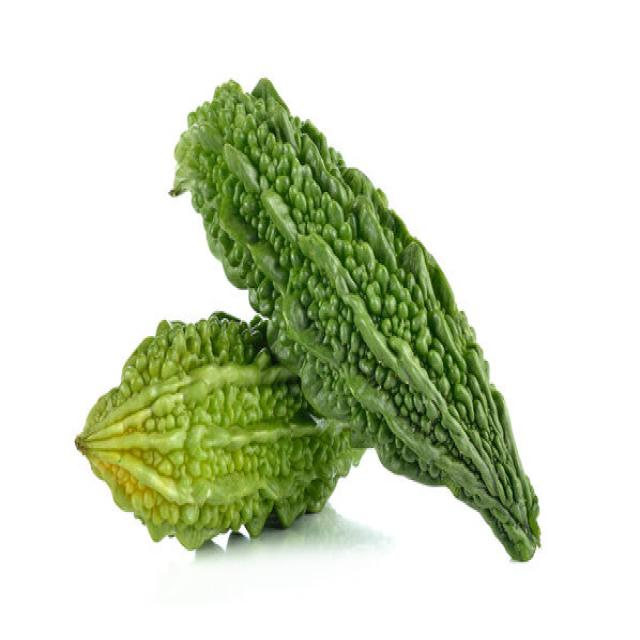Bitter_Gourd: (75, 74, 541, 562)
